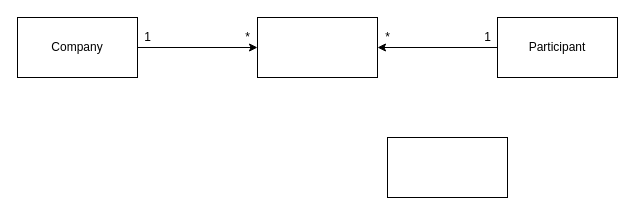
This 635x215 diagram has some shape labels left out. The centre of each missing label's shape, as x and y in pixels:
Survey: pixel 447 167
Trial: pixel 317 47
